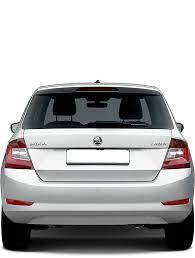skoda: (91, 135, 103, 146)
